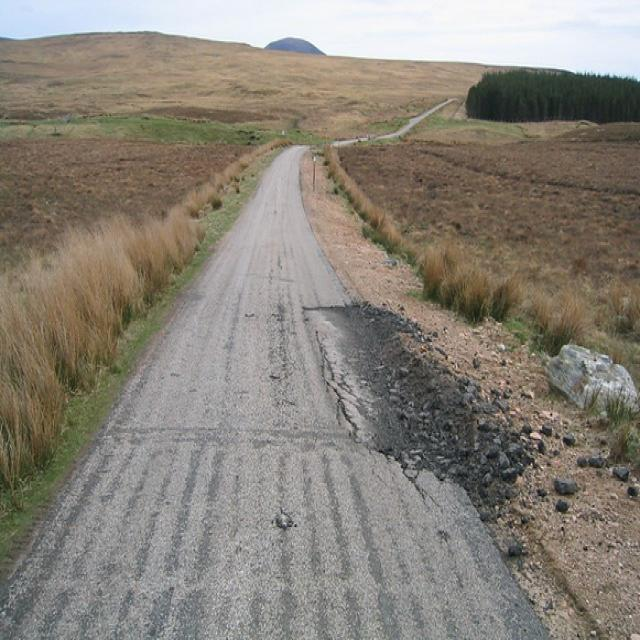Pothole: (302, 253, 528, 622)
